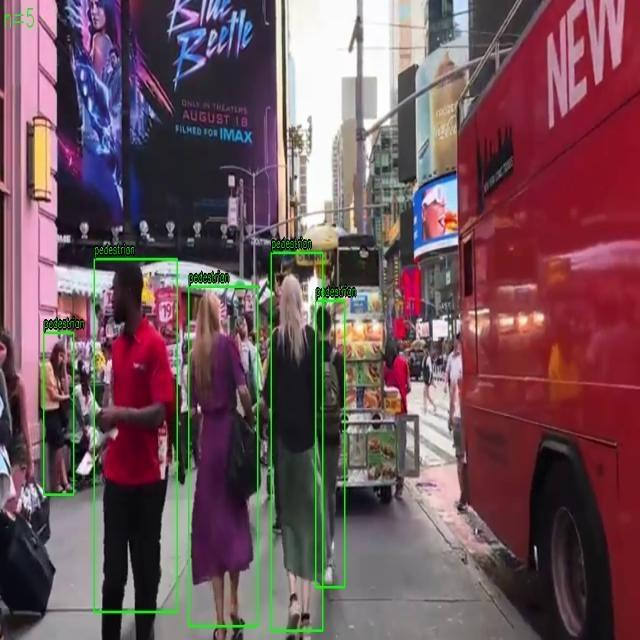person: (94, 258, 178, 612), (188, 286, 258, 627), (271, 253, 323, 632), (315, 300, 345, 588), (44, 332, 74, 496)
